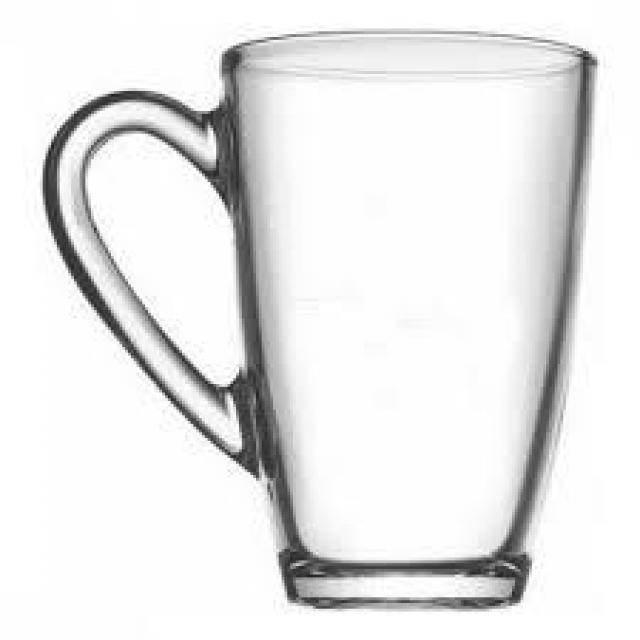non-organic waste: (40, 28, 597, 609)
